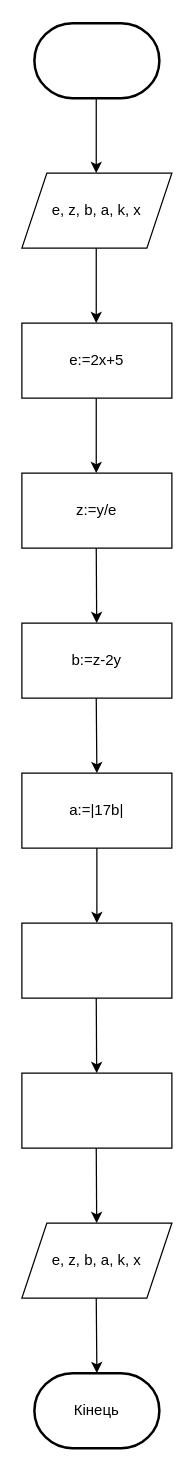
The diagram is 194 pixels wide and 1470 high, and some of its shapes have lost their labels. Each missing label, with the centre of its shape:
"k:=a+zb" belongs at point 96,960.
"x:=e*(-k)" belongs at point 96,1110.
"Початок" belongs at point 96,60.
